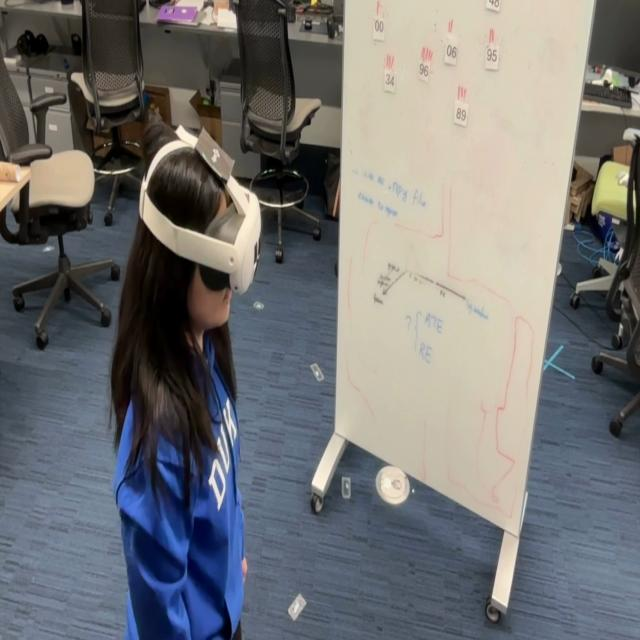Headset: (138, 125, 262, 296)
UnityLogo: (193, 122, 236, 186)
